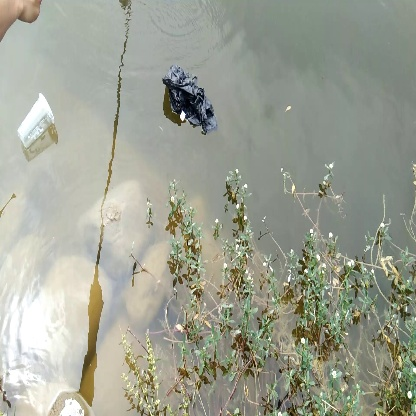bottle: (14, 89, 61, 152)
plastic-bag: (160, 61, 220, 136)
